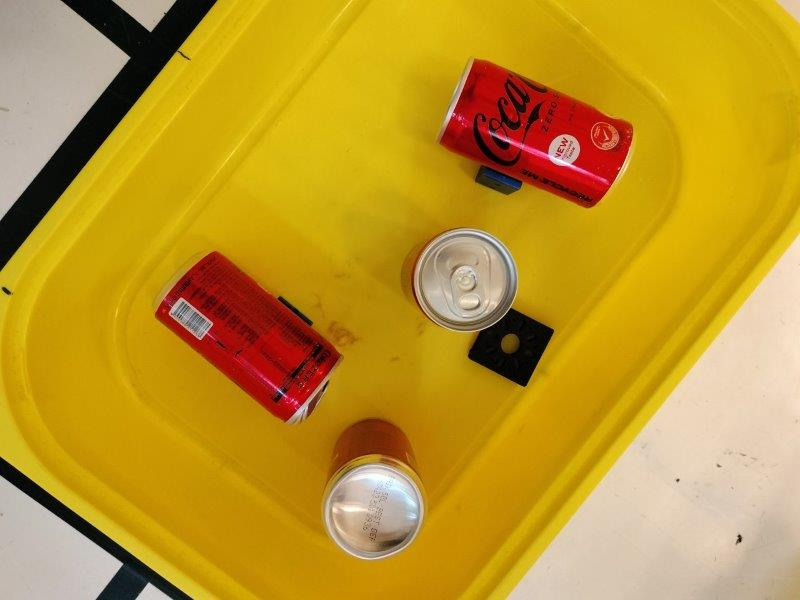Coke: (149, 249, 344, 424), (437, 57, 637, 209), (321, 418, 427, 561), (399, 228, 519, 334)
